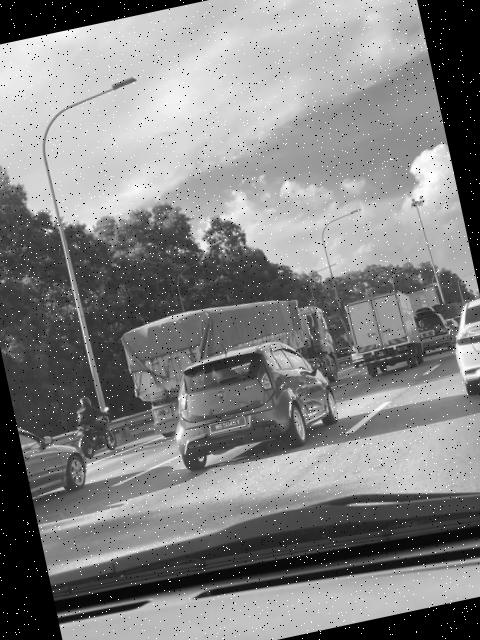License_Plate: (204, 411, 251, 440)
car: (158, 320, 347, 473)
lorry: (113, 278, 347, 437), (344, 288, 428, 379)
motorcycle: (63, 387, 126, 464)
